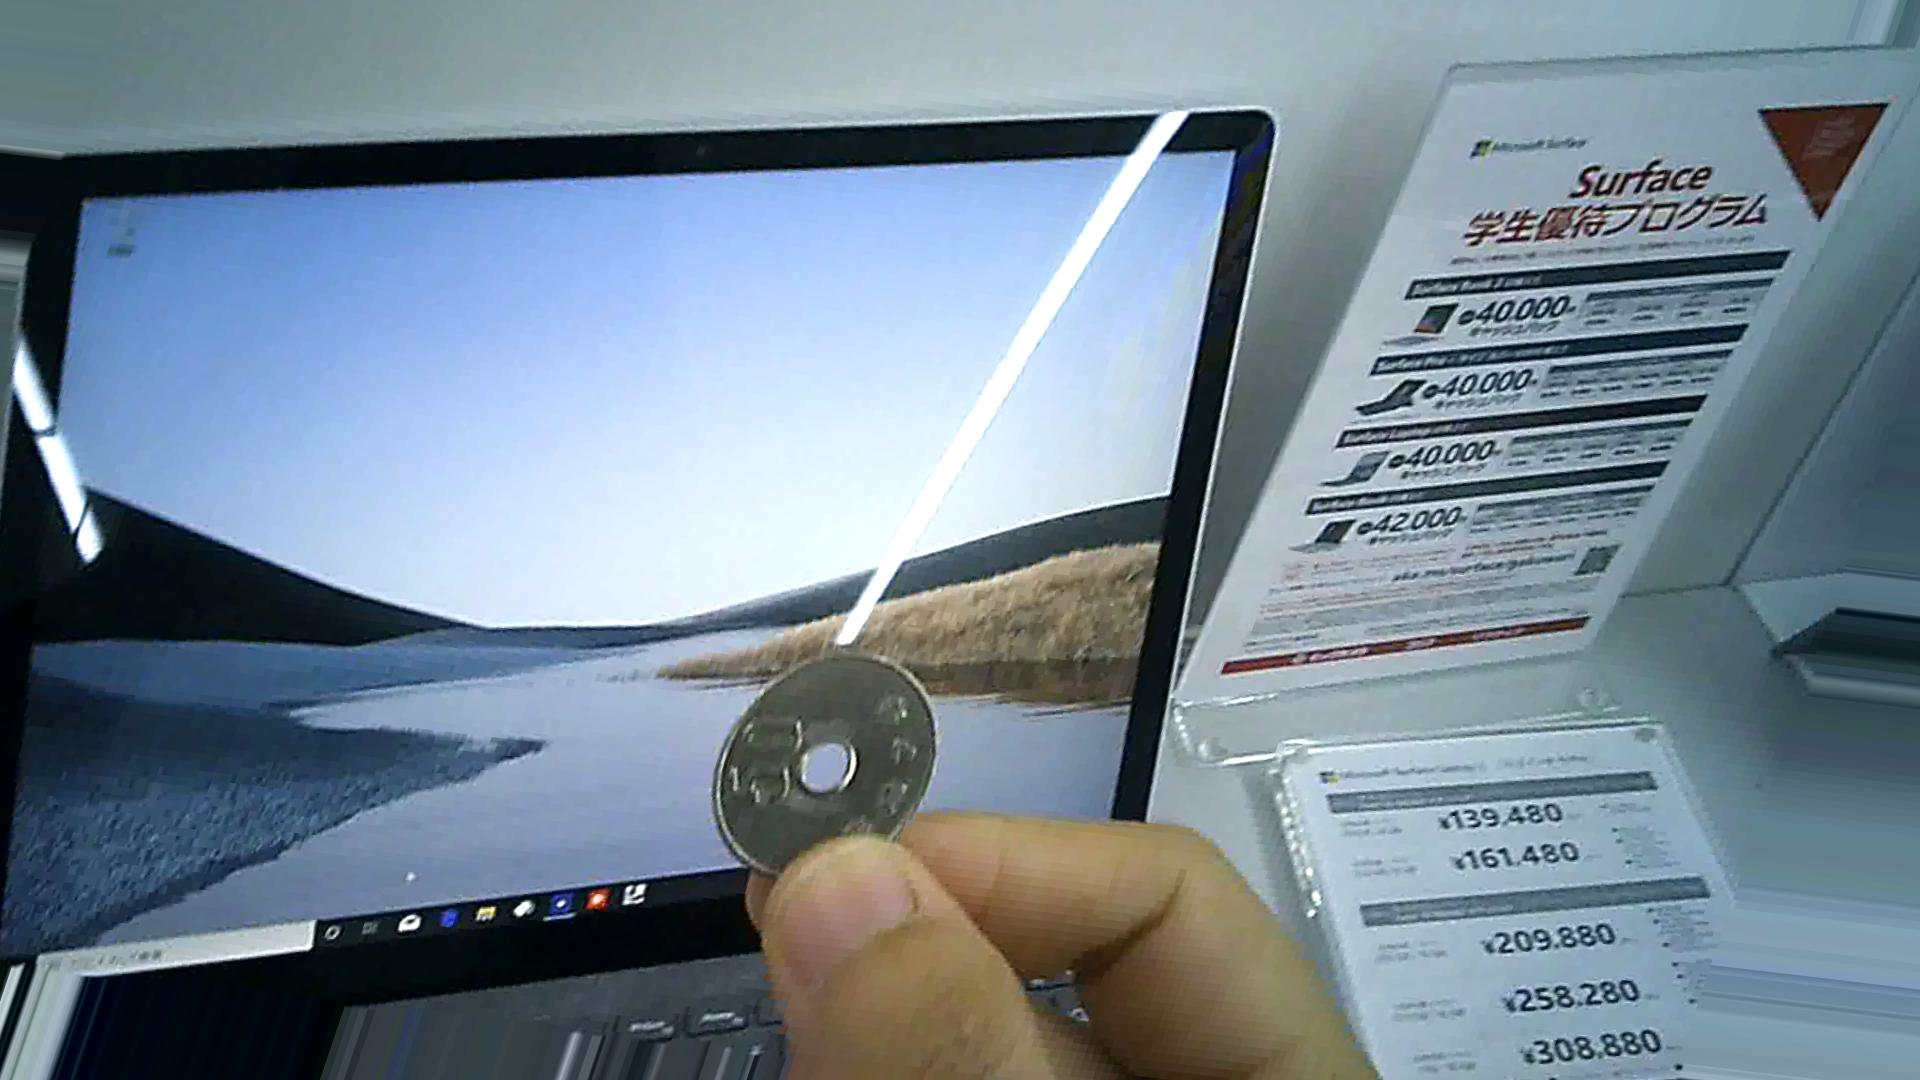50 Yen: (688, 647, 938, 877)
